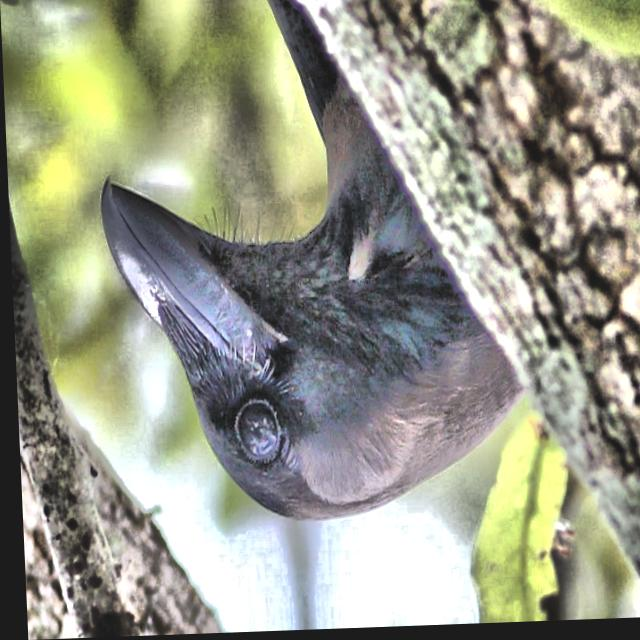crow: (87, 0, 530, 545)
